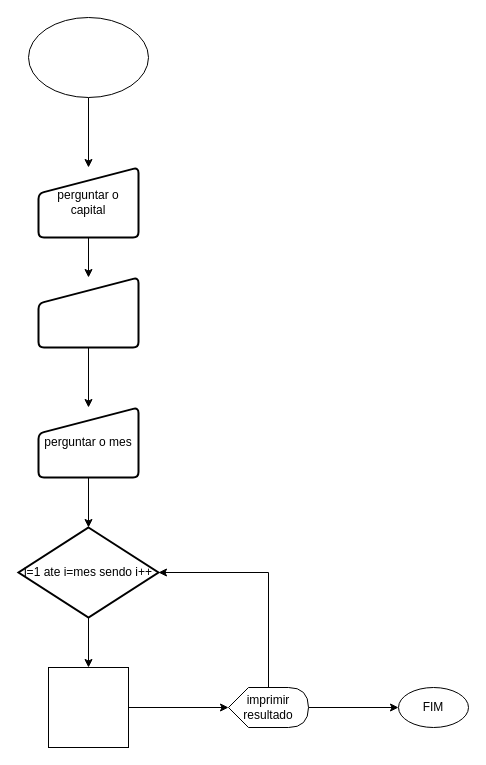
This 486x765 diagram has some shape labels left out. Each missing label, with the centre of its shape:
INICIO: the point at 88,57
montante= capital+juros: the point at 88,707
perguntar o juros: the point at 88,312
